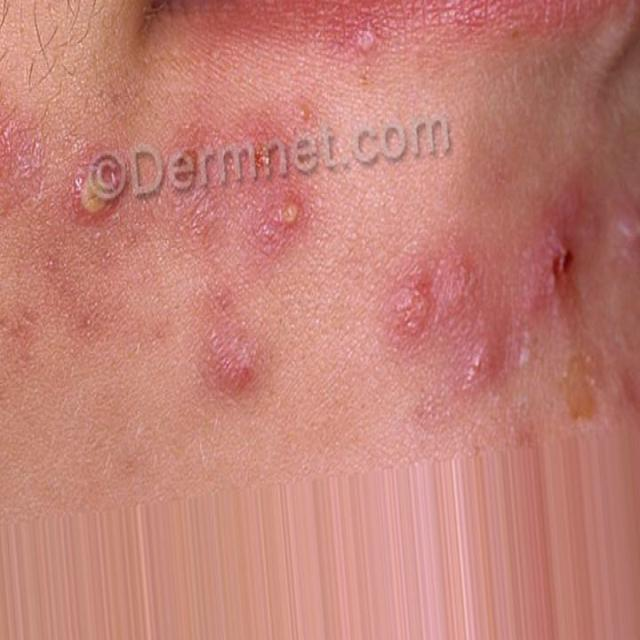acne: (382, 250, 514, 429), (178, 300, 268, 424), (507, 178, 581, 325), (256, 156, 322, 276), (61, 131, 130, 241), (330, 14, 392, 92)
